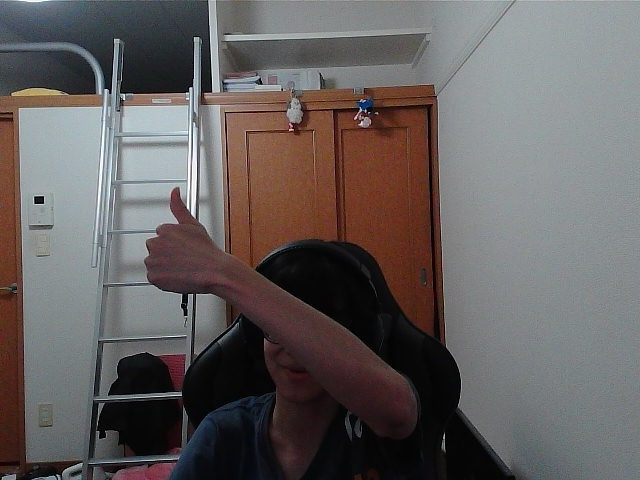thumb_up: (150, 191, 214, 281)
